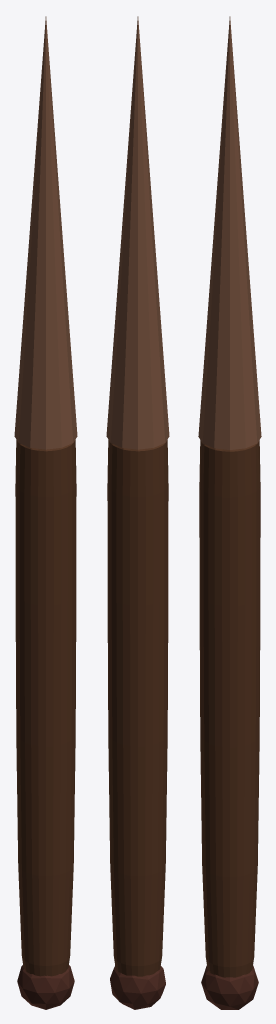
Rendered from Wand 20.glb.
3 views of the same model, side by side, from view 1: azimuth 90°, elevation 25°; view 2: azimuth 150°, elevation 25°; view 3: azimuth 270°, elevation 25° (orthographic).
Visible parts, largest first — view 1: GeneratedWand; view 2: GeneratedWand; view 3: GeneratedWand.
Part boxes in pixels (bbox=[...]): GeneratedWand: bbox=[14, 16, 77, 1009]; GeneratedWand: bbox=[106, 16, 169, 1009]; GeneratedWand: bbox=[198, 16, 261, 1009].
Bounding box in the file's own units: 0.0282 × 0.4904 × 0.0282.
